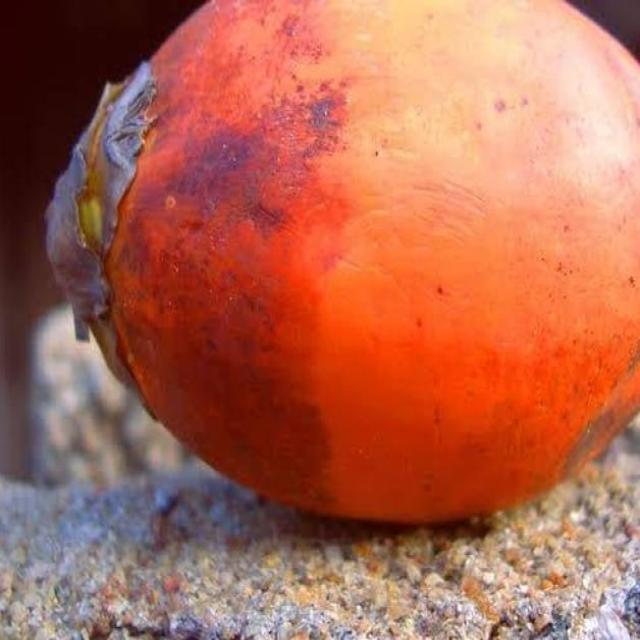good: (47, 0, 639, 529)
